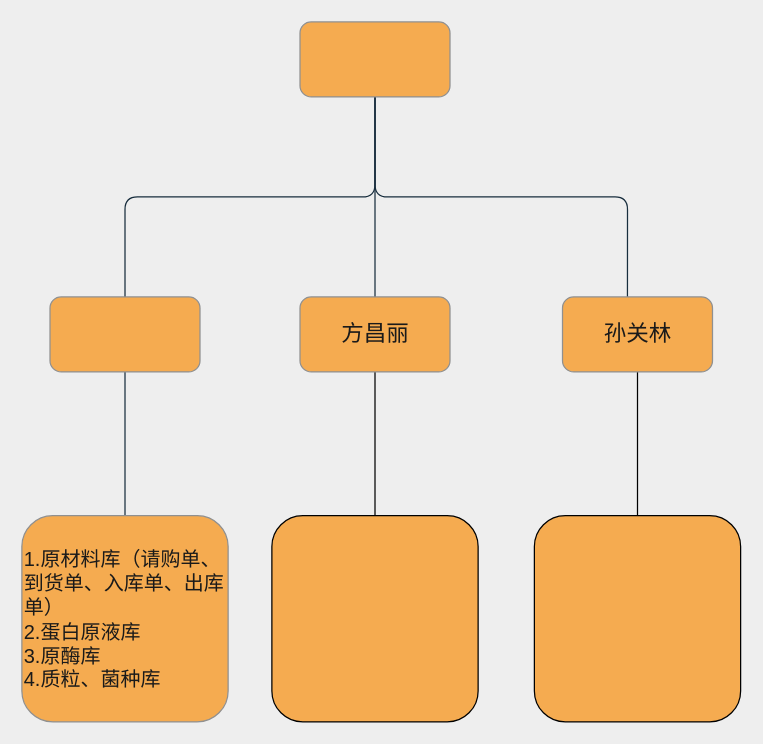
The diagram is 763 pixels wide and 744 high, and some of its shapes have lost their labels. The centre of each missing label's shape, as x and y in pixels:
"吴怀俊" belongs at (124,334).
"孟凡平" belongs at (374,59).
